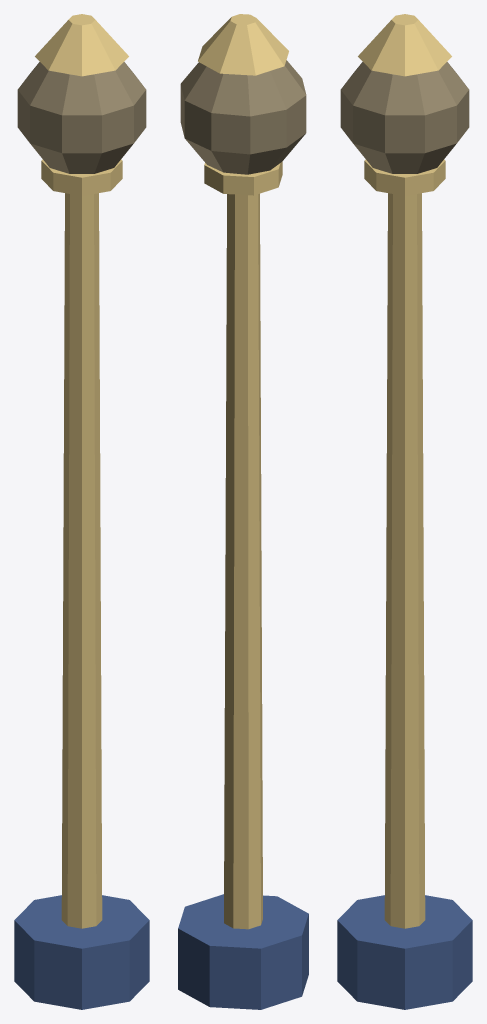
Rendered from CR_Farol.fbx.
3 renders of one model, left to right at view 1: azimuth 90°, elevation 25°; view 2: azimuth 150°, elevation 25°; view 3: azimuth 270°, elevation 25°, orthographic.
Parts seen in each view (by area): view 1: CR_Farol; view 2: CR_Farol; view 3: CR_Farol.
Part boxes in pixels (<box>): CR_Farol: <box>14,14,149,1009</box>; CR_Farol: <box>178,14,308,1009</box>; CR_Farol: <box>337,14,472,1009</box>.
Size of the model in its own units: 0.4 by 3.14 by 0.4.
